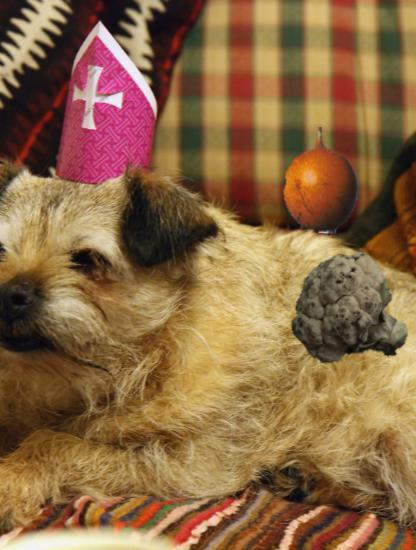Cauliflower: (290, 248, 411, 369)
Granadilla: (269, 127, 375, 233)
